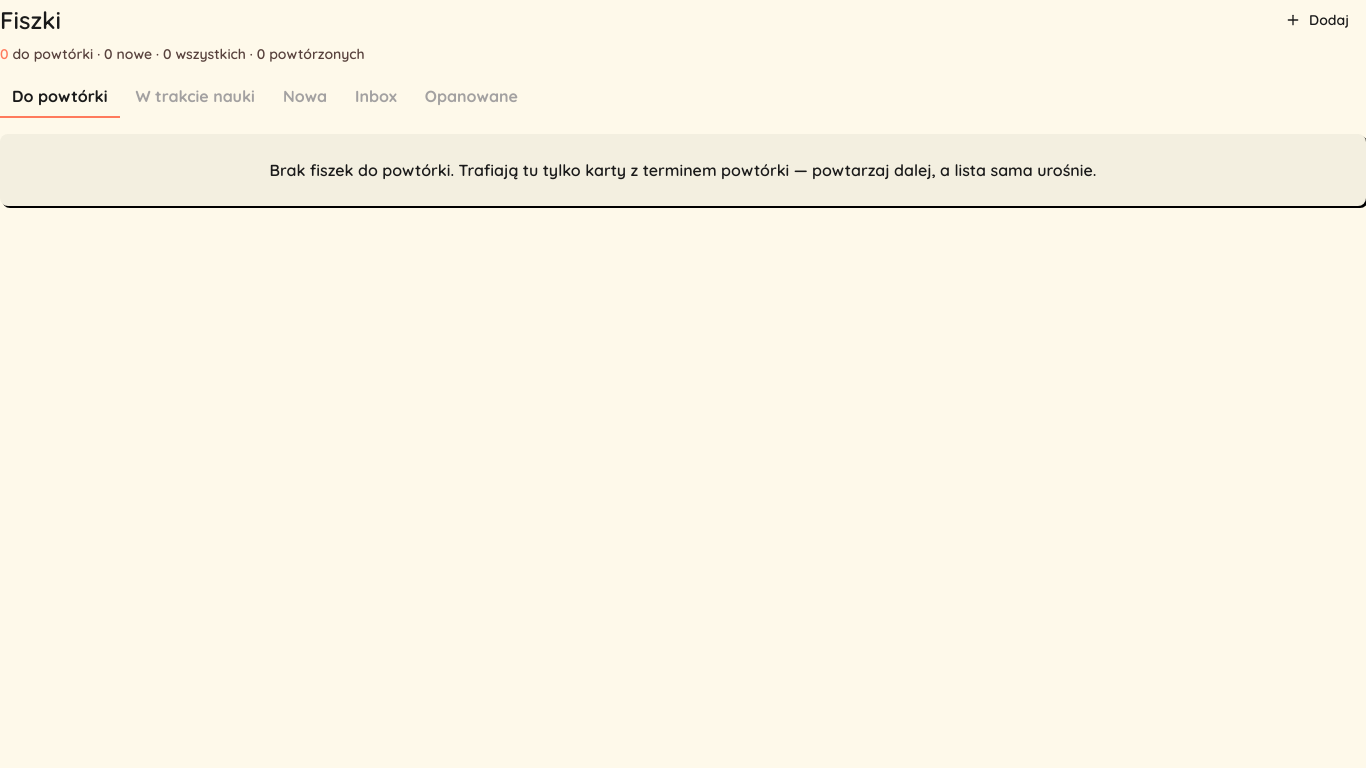
Test case: FlashcardsView › keeps the add dialog open and shows error when save fails
Click the button "Dodaj". click: (1317, 20)
box: [1268, 0, 1365, 40]
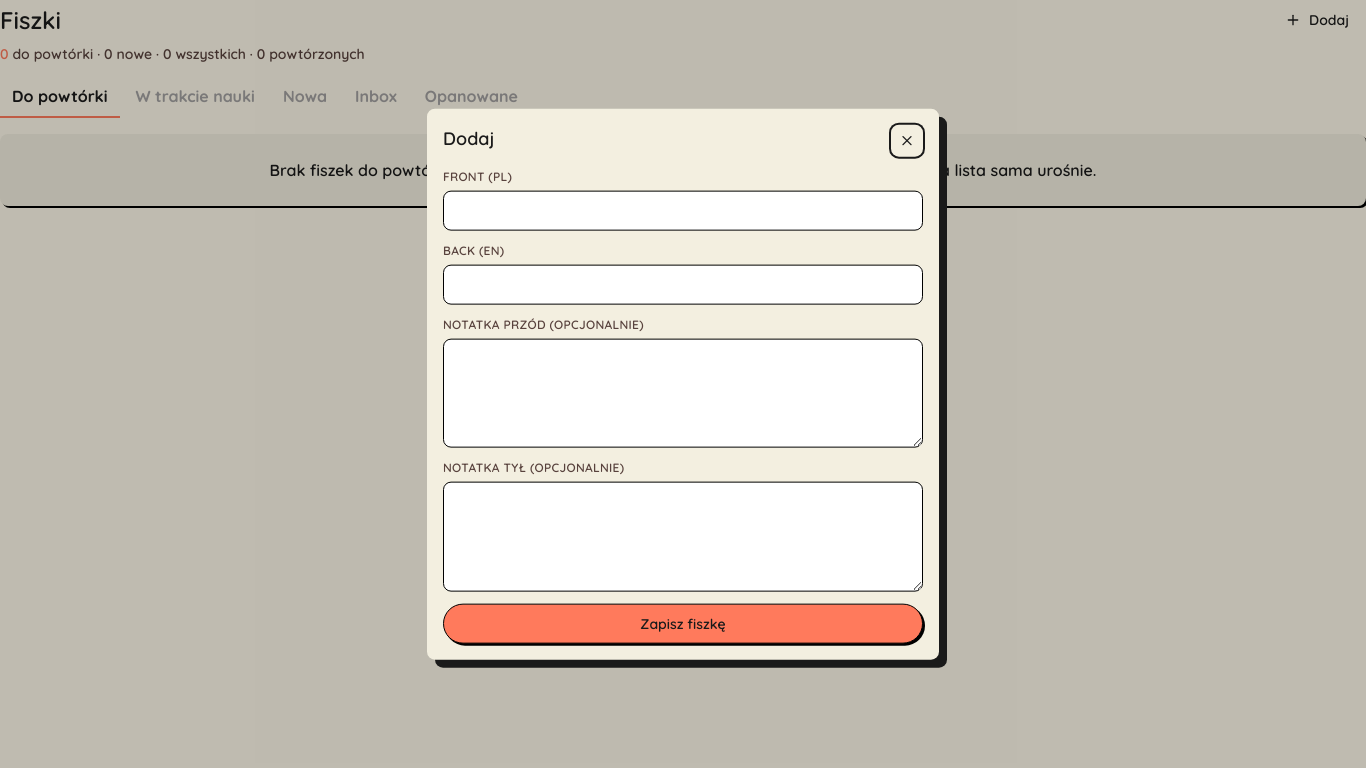
Check: the field labelled "Front (PL)" is shown
Type "A" into the field labelled "Front (PL)". click: (683, 211)
box: [443, 191, 923, 231]
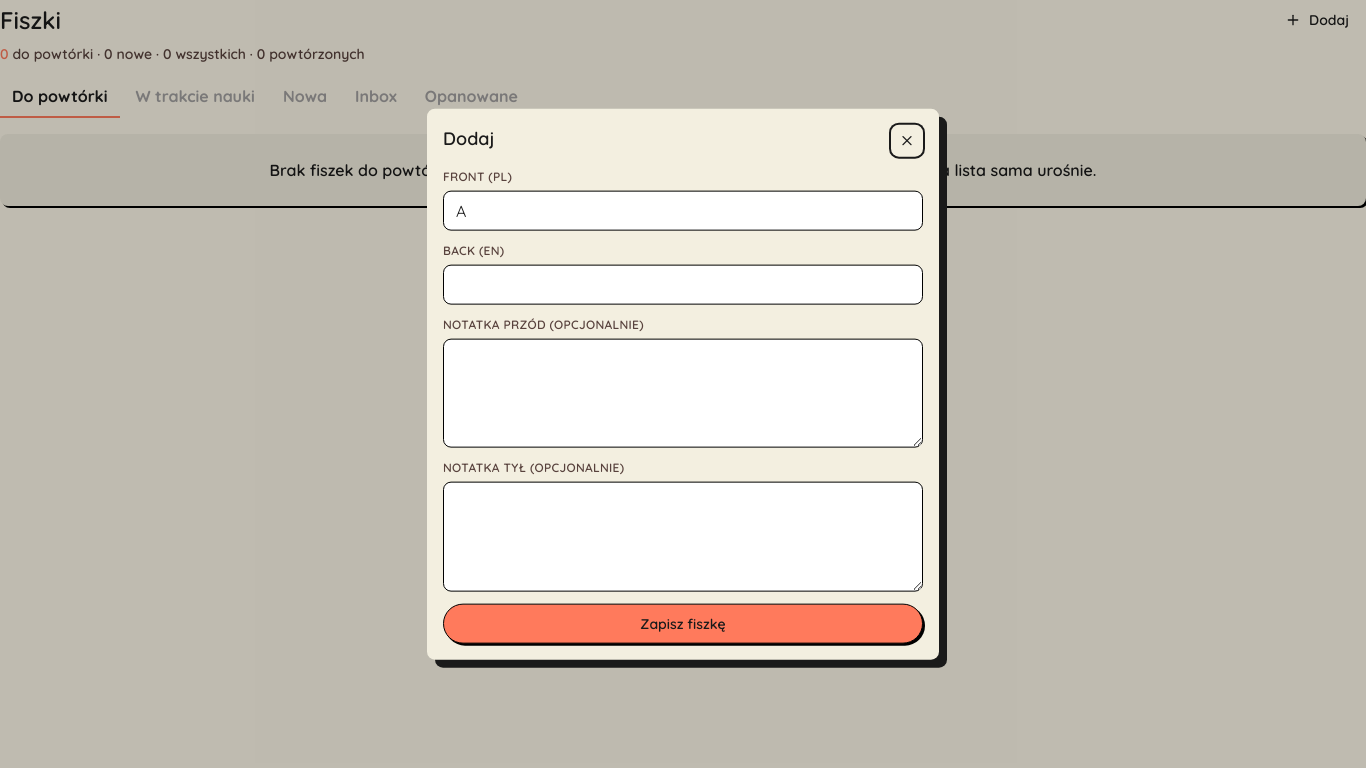
Type "B" into the field labelled "Back (EN)". click: (683, 285)
box: [443, 265, 923, 305]
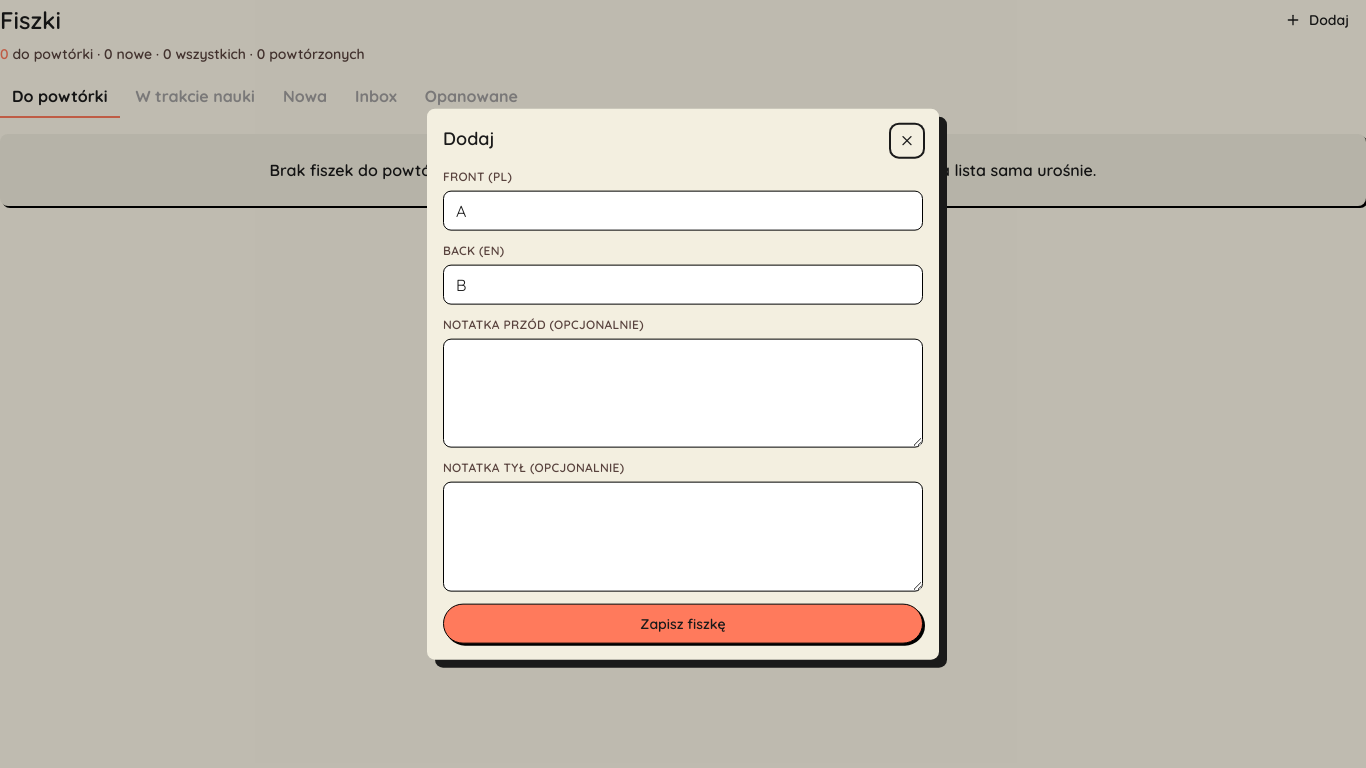
Click the button "Zapisz fiszkę". click: (683, 623)
box: [443, 603, 923, 643]
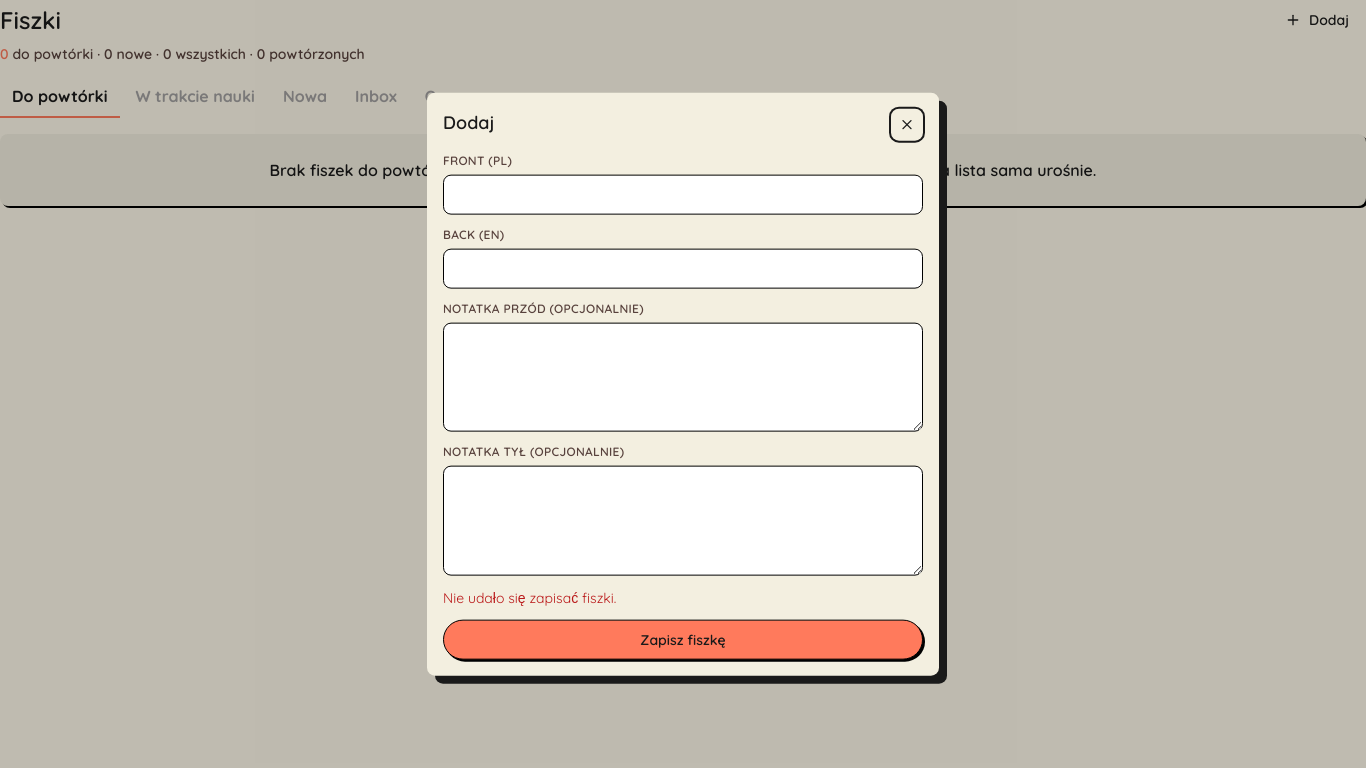
Check: the field labelled "Front (PL)" is shown, box [443, 175, 923, 215]
Check: the text "Nie udało się zapisać fiszki." is shown, box [443, 588, 616, 606]
